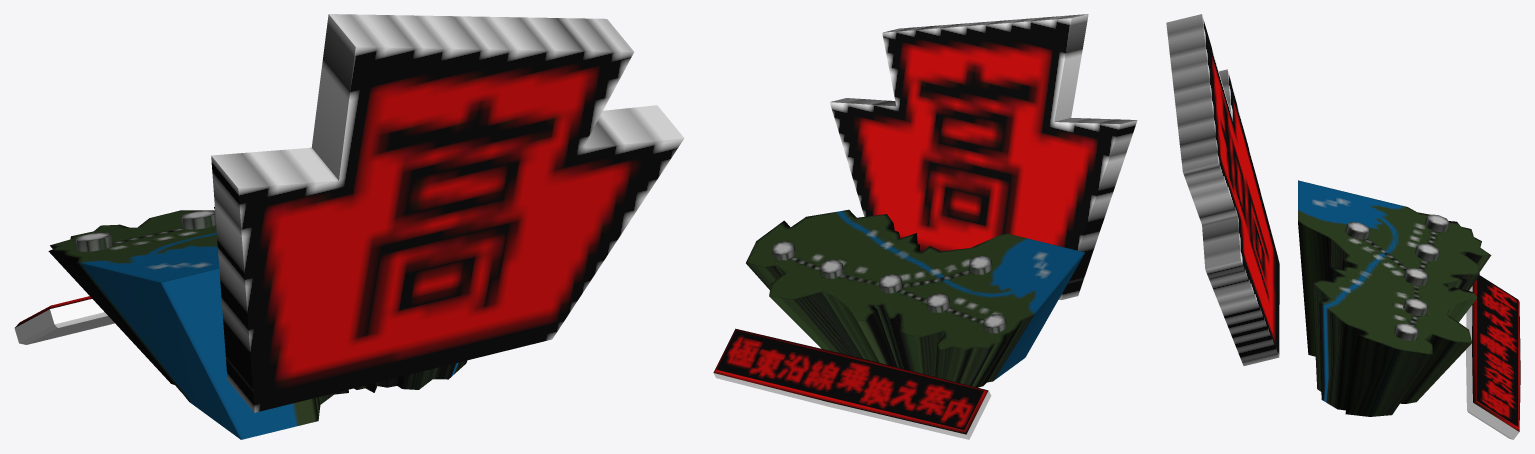
Rendered from STATIC.ICO.obj.
The picture shows the model from 3 angles, left to right: view 1: azimuth 30°, elevation 25°; view 2: azimuth 150°, elevation 25°; view 3: azimuth 270°, elevation 25°; orthographic projection. The views are drawn at different scales.
Size of the model in its own units: 4.89 by 4.98 by 5.
1 material, 1 textured.
